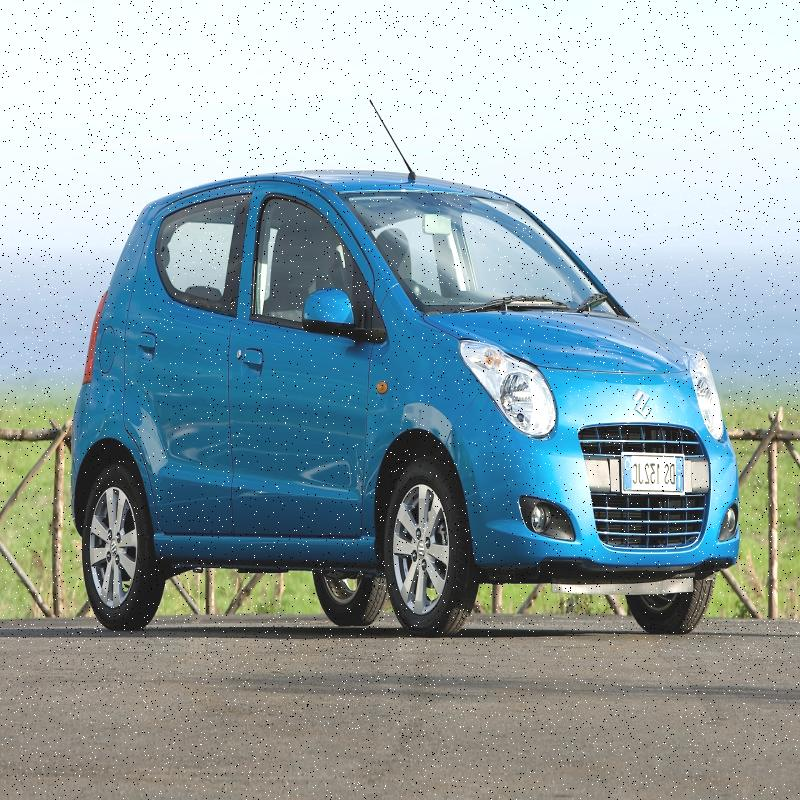car: (67, 136, 750, 634)
